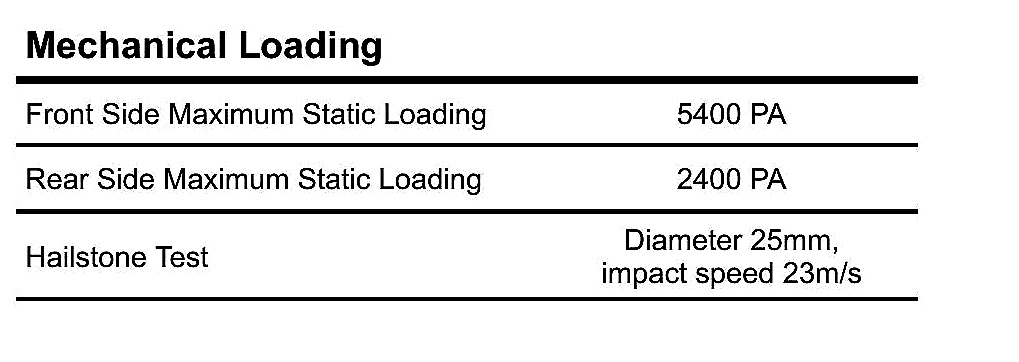table: (10, 17, 928, 311)
table column: (17, 22, 543, 300), (545, 24, 919, 302)
table name: (17, 26, 920, 76)
table row: (12, 217, 922, 297), (12, 149, 921, 205), (12, 86, 920, 141), (13, 24, 919, 75)
table row header: (21, 26, 544, 299)
table spanning cell: (17, 25, 919, 76)
